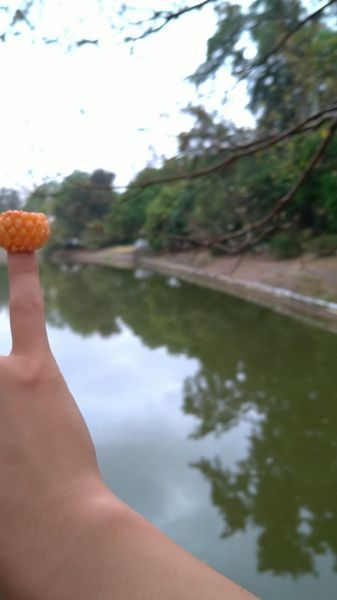eggs: (1, 208, 50, 254)
